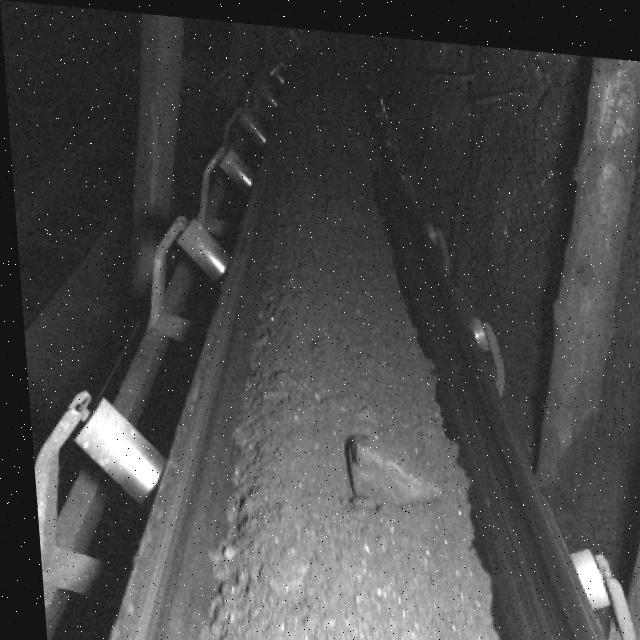large_sized_coal: (322, 424, 436, 511)
